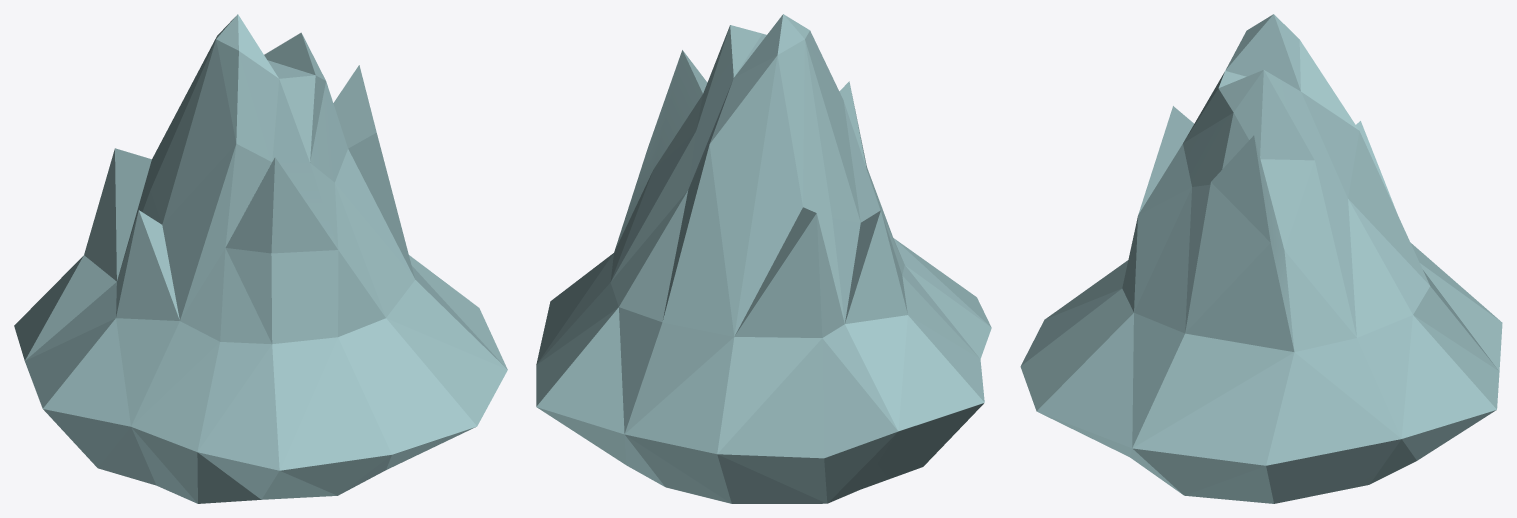
The model's file is iceberg.fbx.
3 views of the same model, side by side, from view 1: azimuth 30°, elevation 25°; view 2: azimuth 150°, elevation 25°; view 3: azimuth 270°, elevation 25° (orthographic). The views are drawn at different scales.
Parts seen in each view (by area): view 1: iceberg; view 2: iceberg; view 3: iceberg.
Part boxes in pixels (<box>): iceberg: <box>14,14,507,503</box>; iceberg: <box>536,14,991,503</box>; iceberg: <box>1020,14,1502,503</box>.
Bounding box in the file's own units: 4.14 × 3.9 × 4.08.
